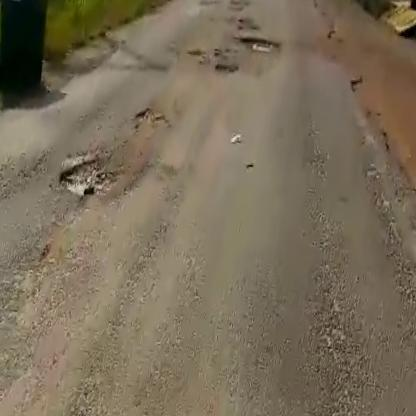pothole: (51, 145, 132, 209), (238, 31, 285, 54), (213, 59, 244, 80)
